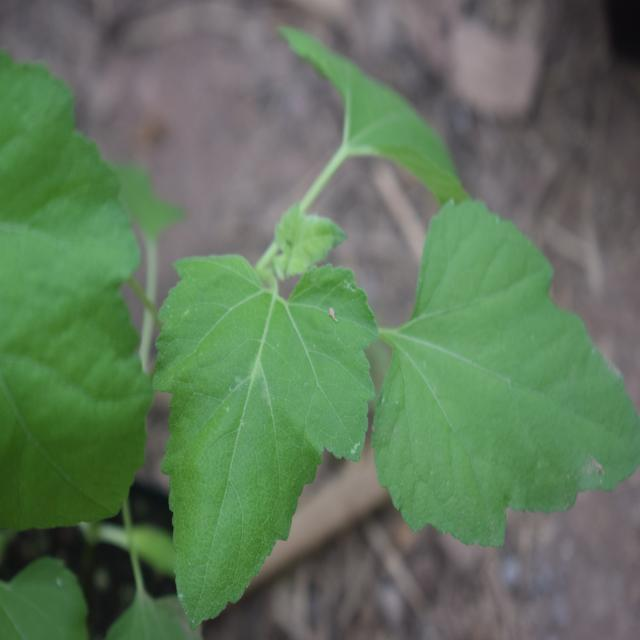cocklebur: (66, 81, 624, 576)
